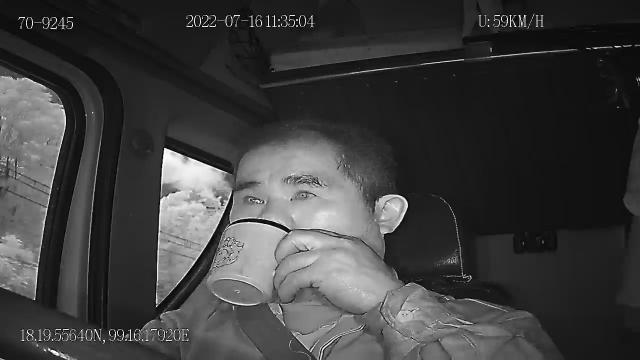SafeDriving: (284, 178, 328, 204), (234, 184, 270, 208)
Seatbelt: (228, 294, 316, 360)
